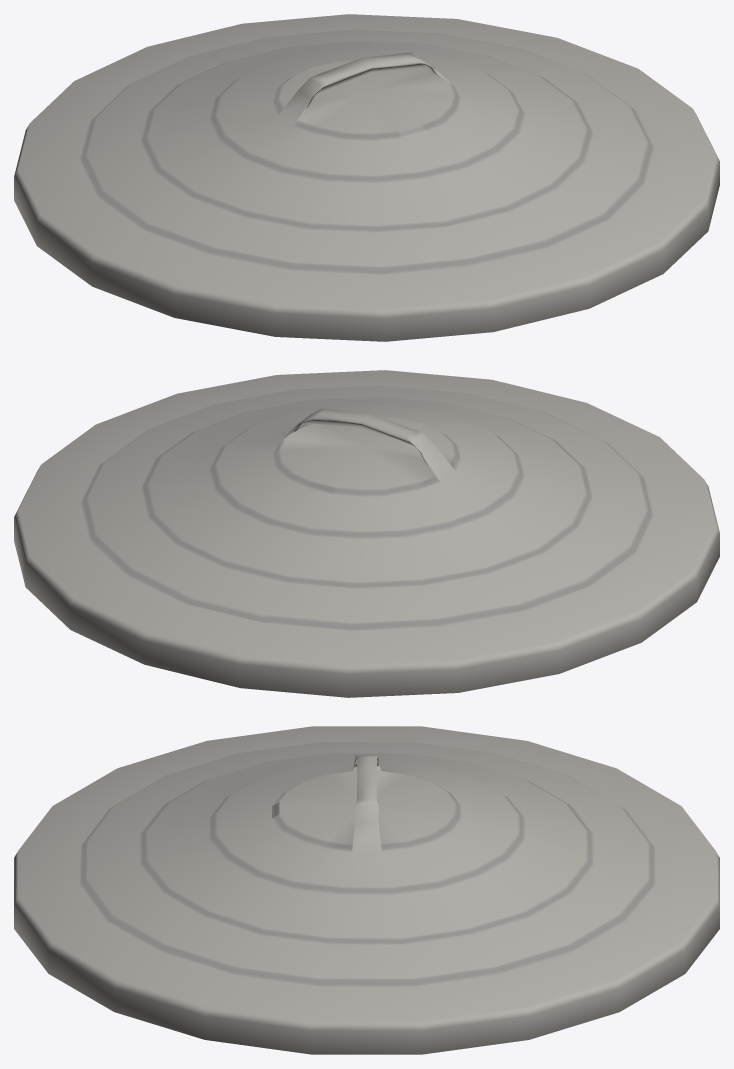
Rendered from Trash_Can_Lid_MDL.fbx.
3 views of the same model, one above another, from view 1: azimuth 30°, elevation 25°; view 2: azimuth 150°, elevation 25°; view 3: azimuth 270°, elevation 25° (orthographic).
Visible parts, largest first — view 1: trash_can_lid; view 2: trash_can_lid; view 3: trash_can_lid.
Part boxes in pixels (bbox=[...]): trash_can_lid: bbox=[14, 14, 719, 341]; trash_can_lid: bbox=[14, 370, 719, 697]; trash_can_lid: bbox=[14, 726, 719, 1054].
Bounding box in the file's own units: 60.51 × 12.54 × 60.51.
